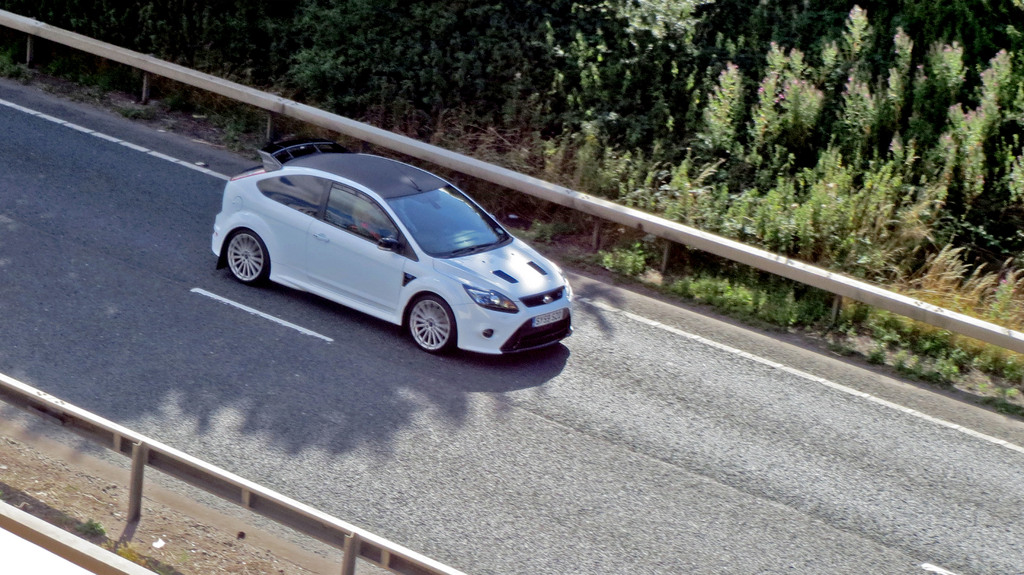Car: (211, 132, 574, 356)
